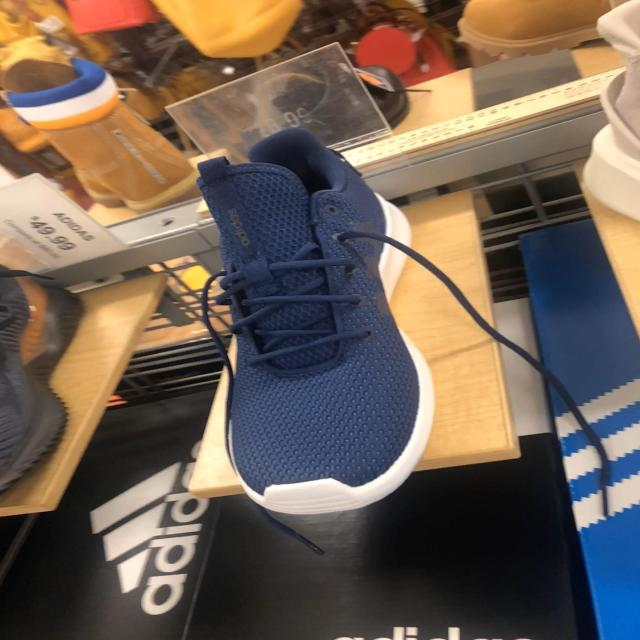shoe: (196, 128, 434, 519)
